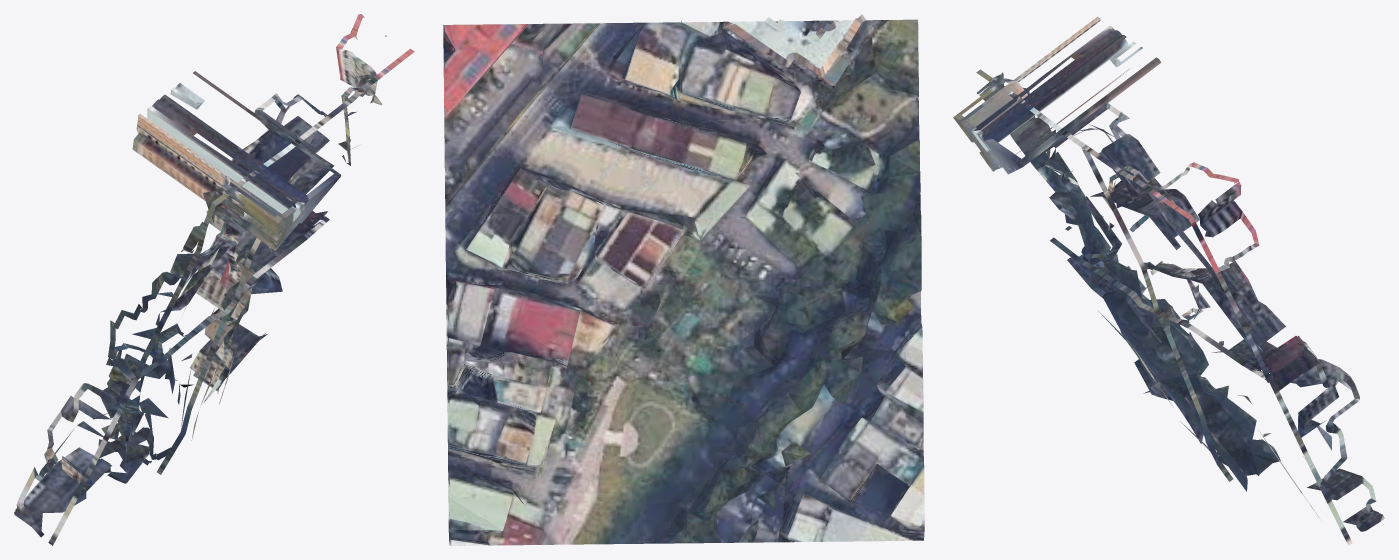
3 renders of one model, left to right at view 1: azimuth 30°, elevation 25°; view 2: azimuth 150°, elevation 25°; view 3: azimuth 270°, elevation 25°, orthographic. The views are drawn at different scales.
Bounding box in the file's own units: 158 × 161 × 147.
1 material, 1 textured.
